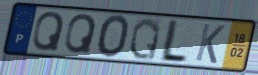K: (193, 22, 226, 66)
L: (157, 18, 190, 65)
O: (96, 13, 132, 60)
Q: (127, 16, 163, 62), (30, 10, 67, 53), (63, 13, 99, 56)
